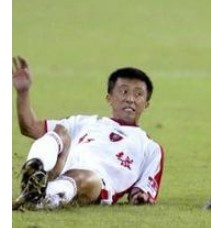falling: (18, 44, 164, 211)
